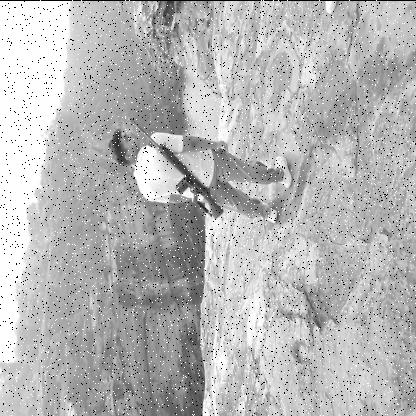rifle: (127, 114, 225, 220)
